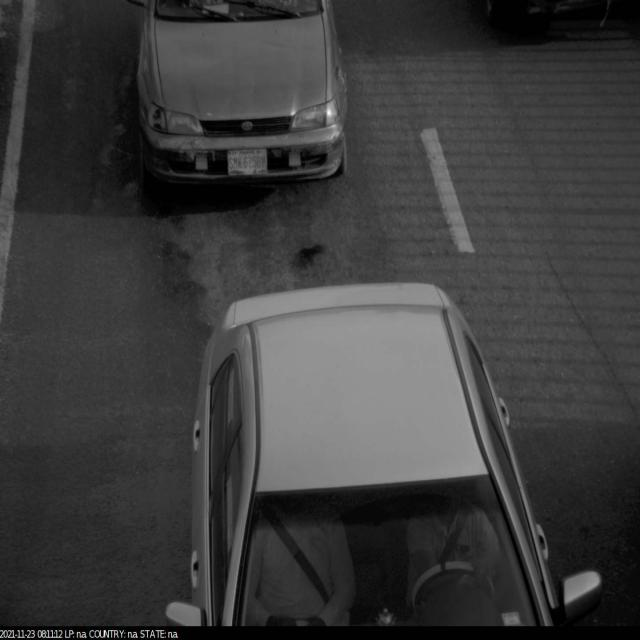windshield: (219, 465, 549, 629)
